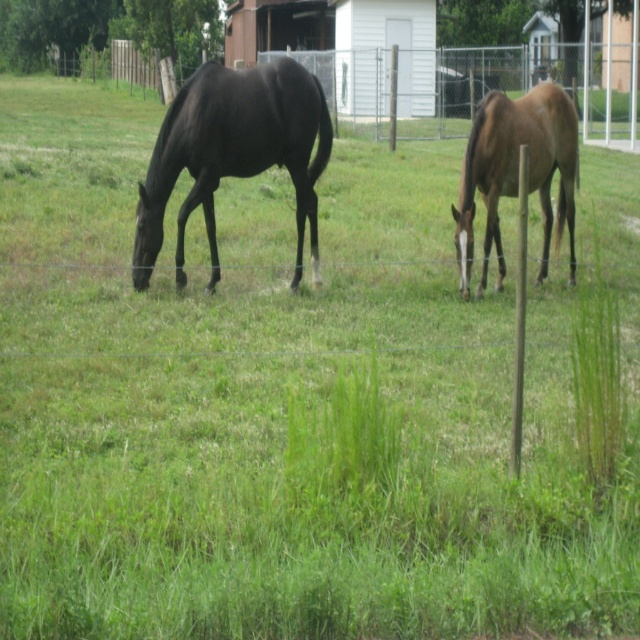Horse: (132, 53, 335, 302), (452, 81, 583, 307)
